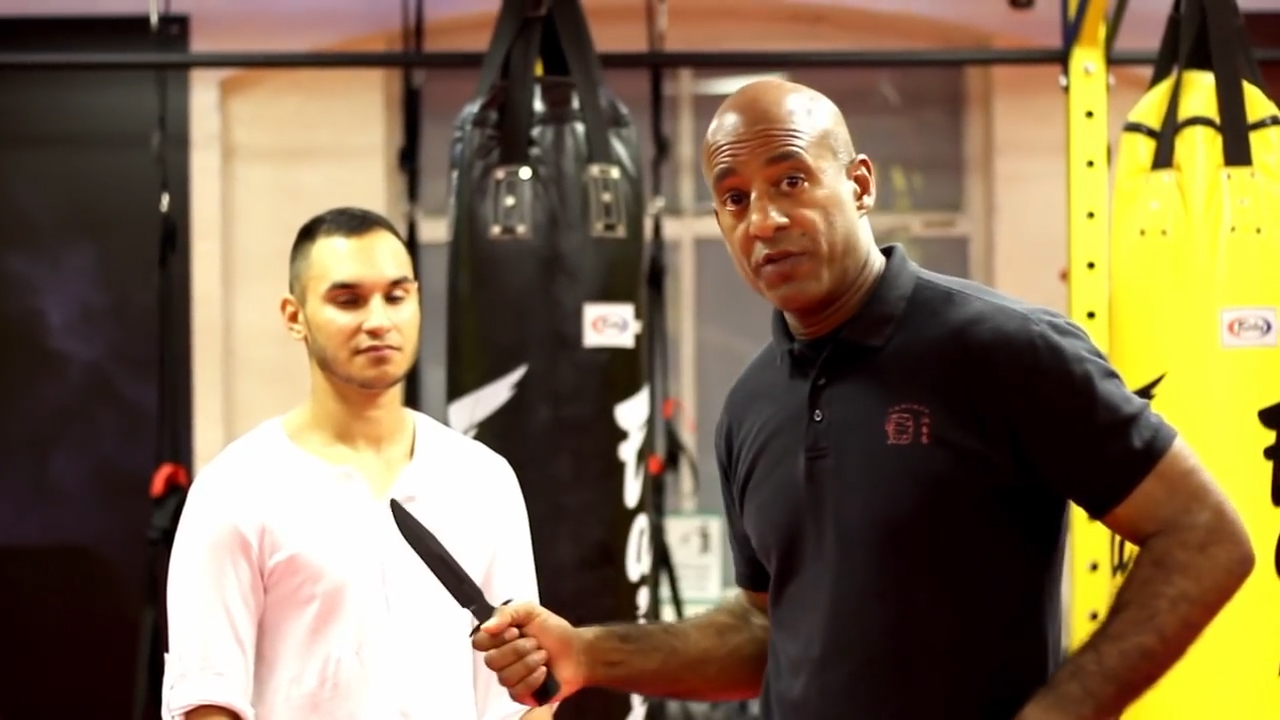knife: (385, 495, 567, 717)
